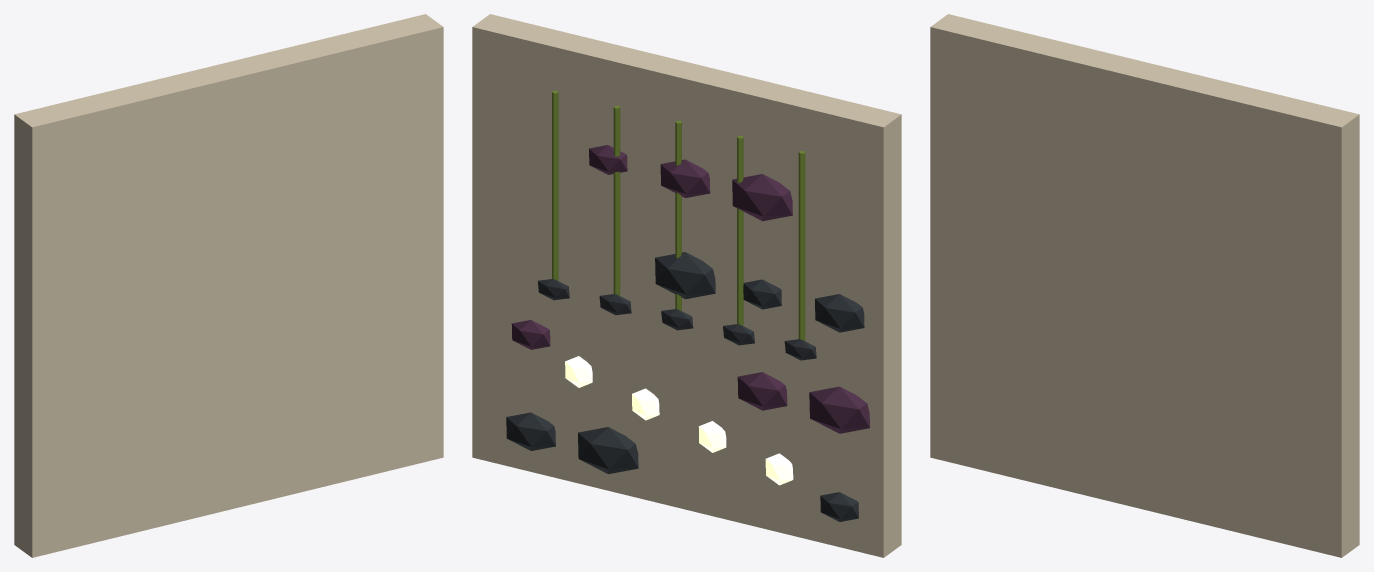
The model's file is moss_wall.glb.
3 views of the same model, side by side, from view 1: azimuth 30°, elevation 25°; view 2: azimuth 150°, elevation 25°; view 3: azimuth 330°, elevation 25° (orthographic).
Visible parts, largest first — view 1: moss_wall; view 2: moss_wall; view 3: moss_wall.
Part boxes in pixels (x1,y1,x2,y2): moss_wall: [14, 14, 443, 557]; moss_wall: [472, 14, 901, 557]; moss_wall: [930, 14, 1359, 557].
Bounding box in the file's own units: 8 × 8 × 0.9807.
2 materials, 1 textured.
